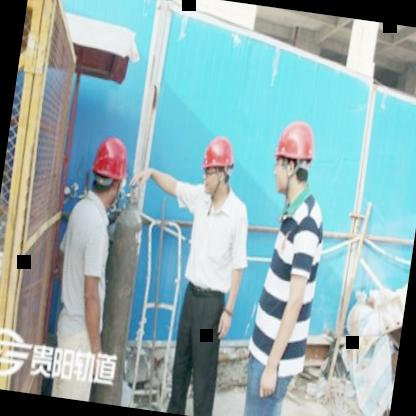helmet: (266, 108, 323, 205), (82, 127, 132, 214), (193, 129, 240, 206)
